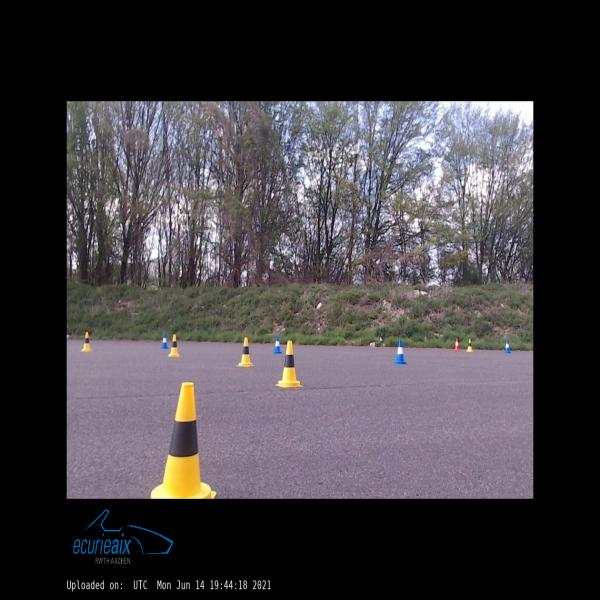blue_cone: (394, 340, 407, 364), (274, 336, 282, 354), (161, 332, 169, 348), (504, 340, 511, 353)
orange_cone: (454, 338, 460, 350)
yellow_cone: (151, 382, 216, 499), (276, 341, 303, 388), (238, 338, 254, 366), (168, 334, 180, 356), (82, 332, 92, 351), (467, 339, 473, 351)
